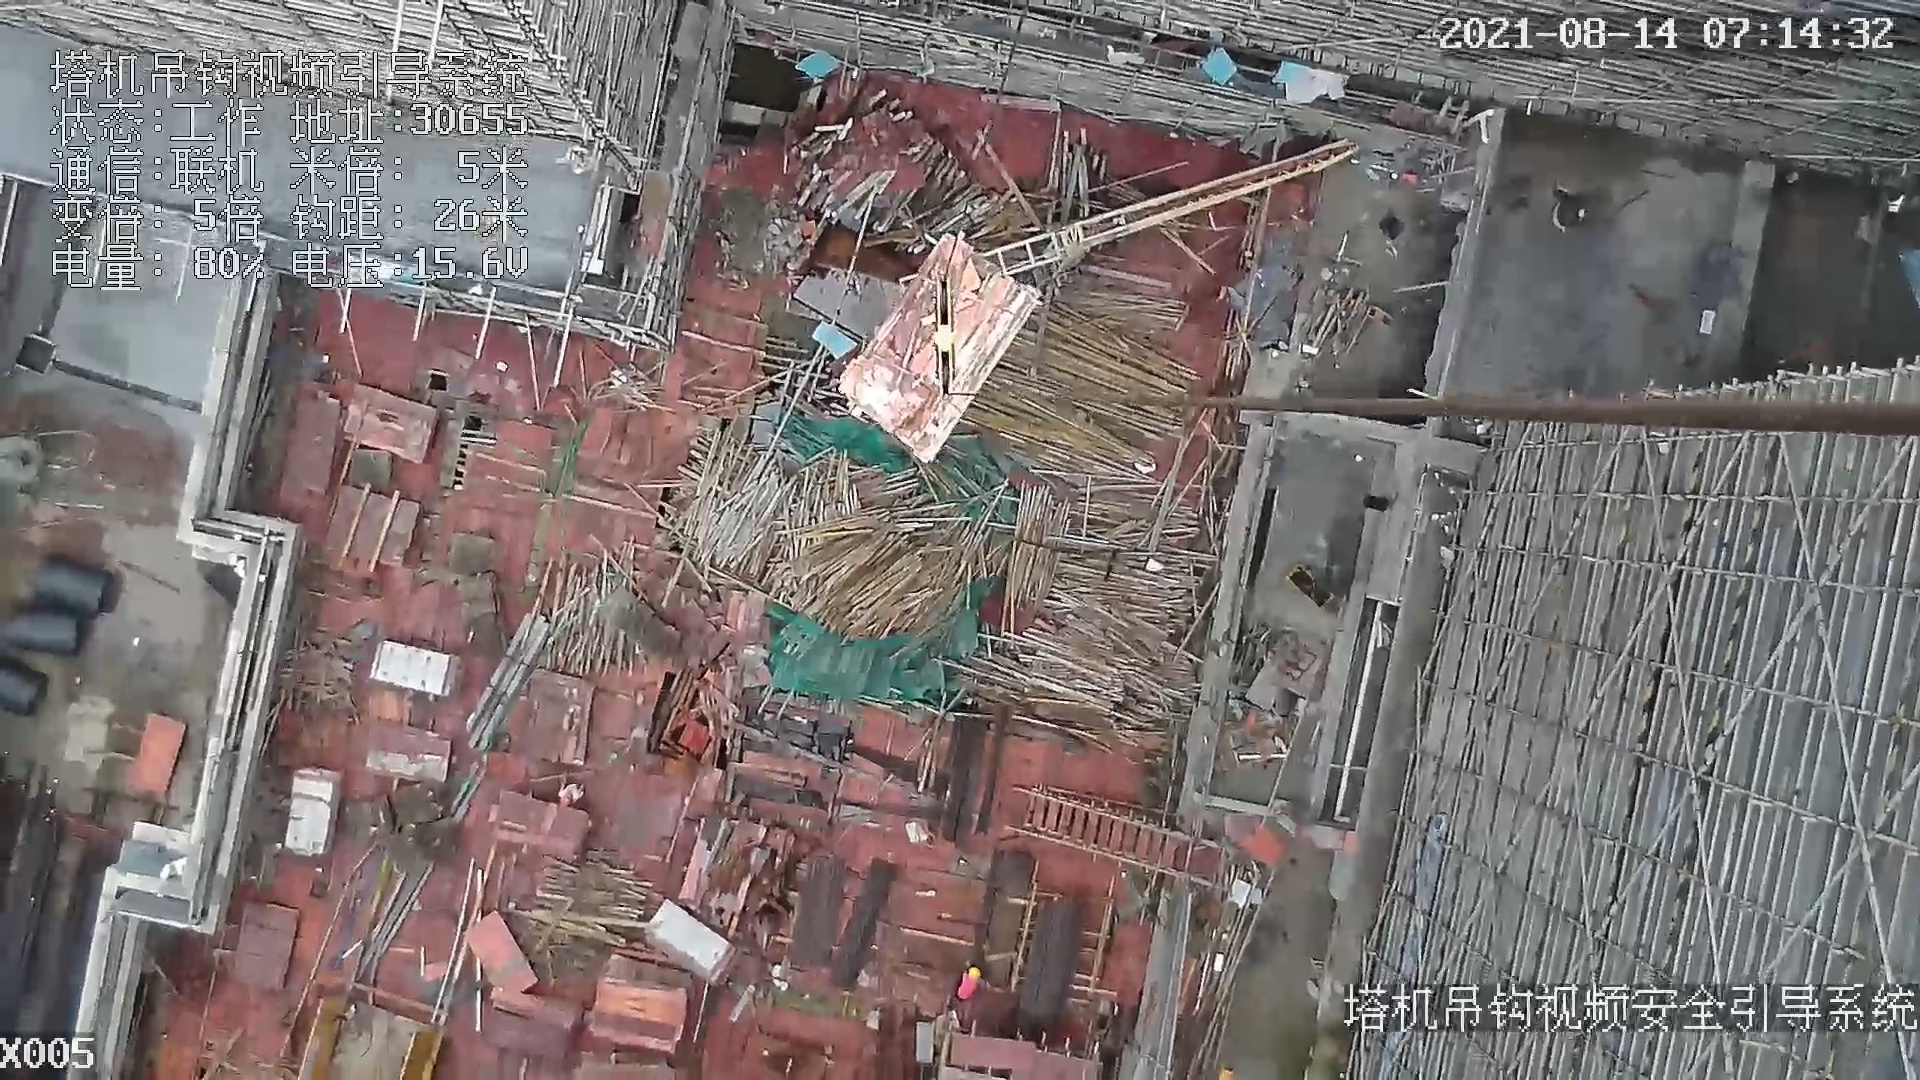hook: (922, 276, 964, 400)
